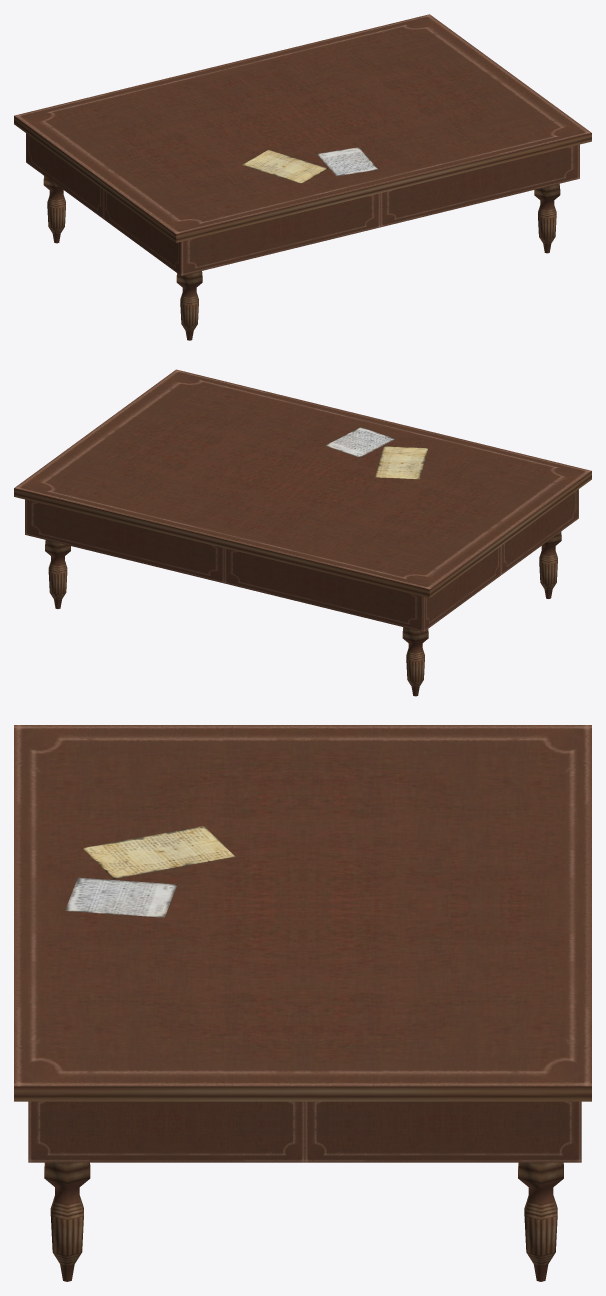
Rendered from desk_gov.fbx.
3 views of the same model, one above another, from view 1: azimuth 30°, elevation 25°; view 2: azimuth 150°, elevation 25°; view 3: azimuth 270°, elevation 25° (orthographic). The views are drawn at different scales.
Visible parts, largest first — view 1: desk1, desk, letter01, letter02; view 2: desk1, desk, letter01, letter02; view 3: desk1, desk, letter01, letter02.
Boxes of the visible parts, x1,y1,x2,y2 form: desk1: (14, 14, 591, 242); desk: (26, 133, 579, 340); letter01: (242, 149, 327, 183); letter02: (317, 147, 378, 176); desk1: (14, 369, 591, 598); desk: (25, 489, 578, 696); letter01: (375, 446, 427, 479); letter02: (325, 427, 394, 457); desk1: (14, 725, 591, 1101); desk: (28, 1101, 581, 1281); letter01: (82, 826, 235, 878); letter02: (65, 877, 177, 917).
Size of the model in its own units: 1051 by 301 by 710.
Materials: 1 (1 with a texture image).
